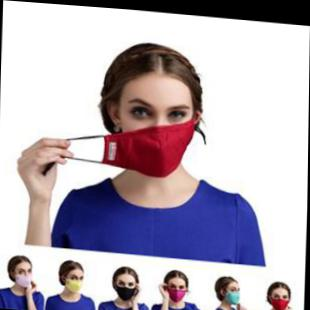OK: (117, 276, 139, 298), (65, 270, 86, 293), (13, 267, 35, 288), (224, 281, 243, 301), (170, 279, 188, 300), (273, 287, 290, 308)
WRONG: (100, 86, 196, 176)
